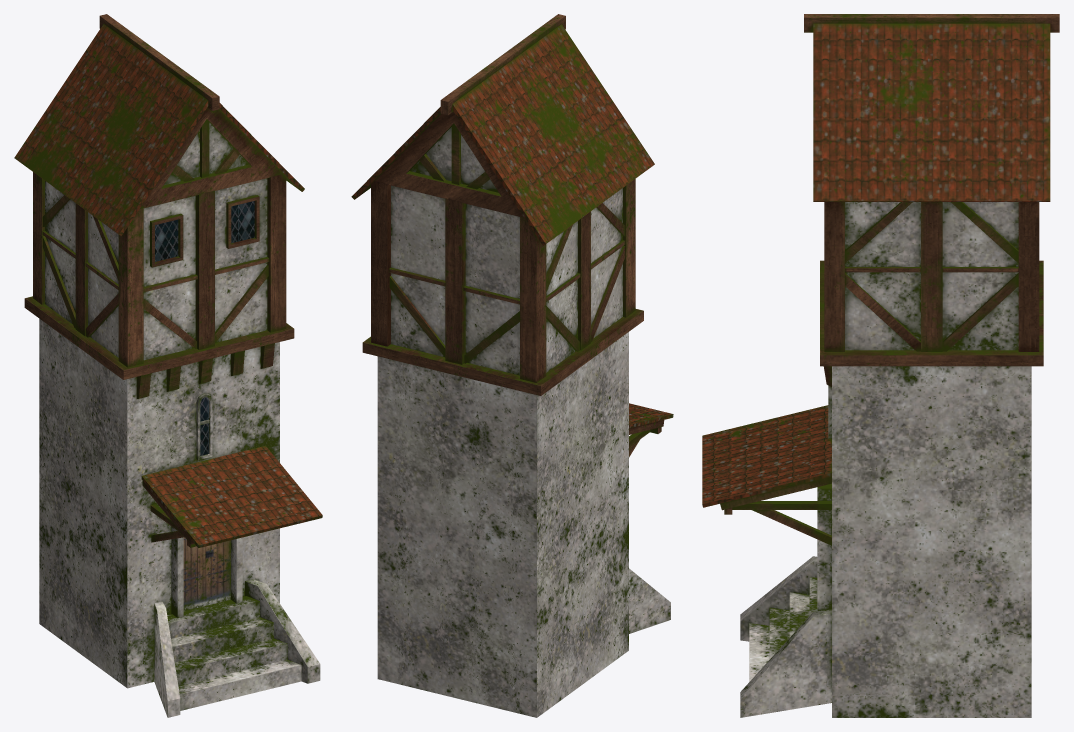
File: HouseA.gltf
3 views of the same model, side by side, from view 1: azimuth 30°, elevation 25°; view 2: azimuth 150°, elevation 25°; view 3: azimuth 270°, elevation 25° (orthographic). The views are drawn at different scales.
Parts seen in each view (by area): view 1: House1_House1_M_0; view 2: House1_House1_M_0; view 3: House1_House1_M_0.
Boxes of the visible parts, x1,y1,x2,y2 form: House1_House1_M_0: (14,14,322,717); House1_House1_M_0: (351,14,673,717); House1_House1_M_0: (702,14,1059,717).
Size of the model in its own units: 19.39 by 57.79 by 28.39.
1 material, 1 textured.
